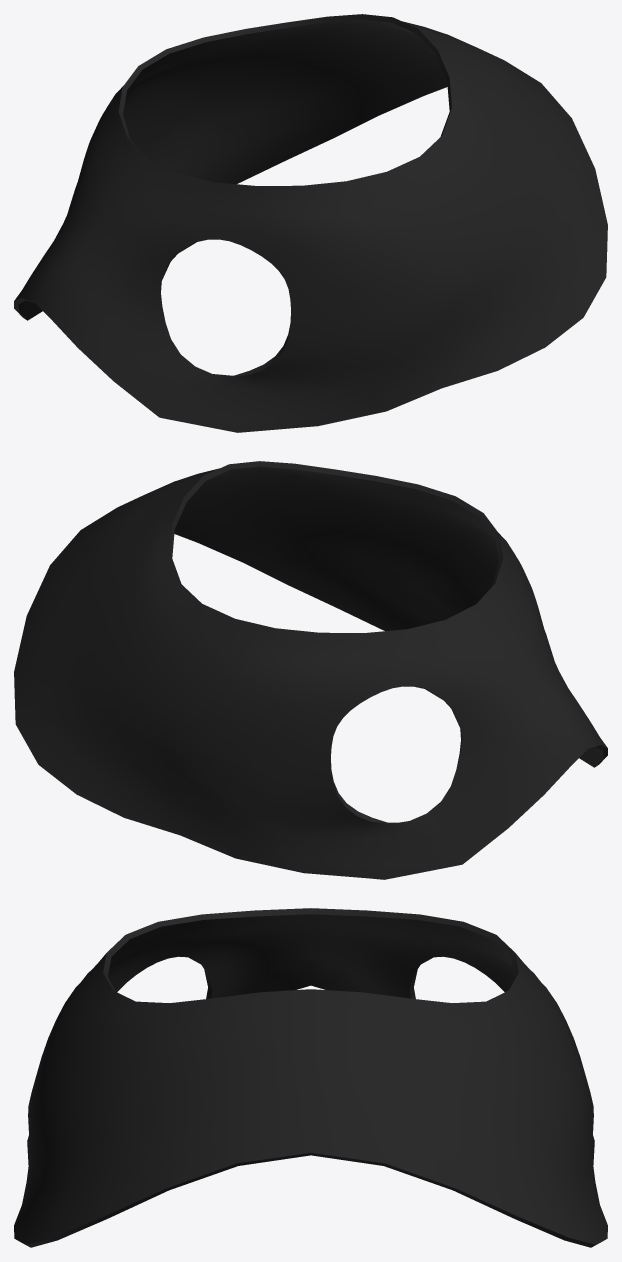
The model's file is Thief_Mask_Dog.fbx.
3 renders of one model, top to bottom at view 1: azimuth 30°, elevation 25°; view 2: azimuth 150°, elevation 25°; view 3: azimuth 270°, elevation 25°, orthographic. The views are drawn at different scales.
Parts seen in each view (by area): view 1: Thief_Mask_Dog; view 2: Thief_Mask_Dog; view 3: Thief_Mask_Dog.
Boxes of the visible parts, x1,y1,x2,y2 form: Thief_Mask_Dog: (14,14,607,432); Thief_Mask_Dog: (14,461,607,879); Thief_Mask_Dog: (14,908,607,1247).
Size of the model in its own units: 58.67 by 30.12 by 52.51.
Materials: 1 (1 with a texture image).
